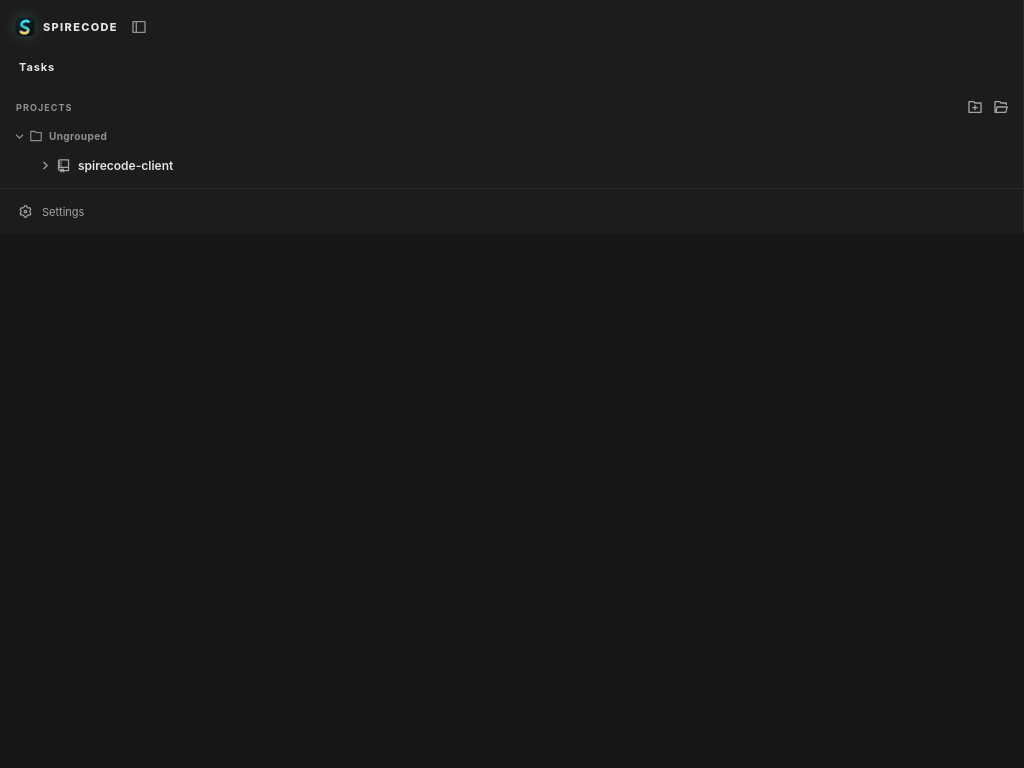
it: ProjectRail › renames a Git session from its context menu and updates an open tab
Click the button with aria-label "Expand spirecode-client" at (126, 165), box top-left (36, 150), bottom-right (963, 180)
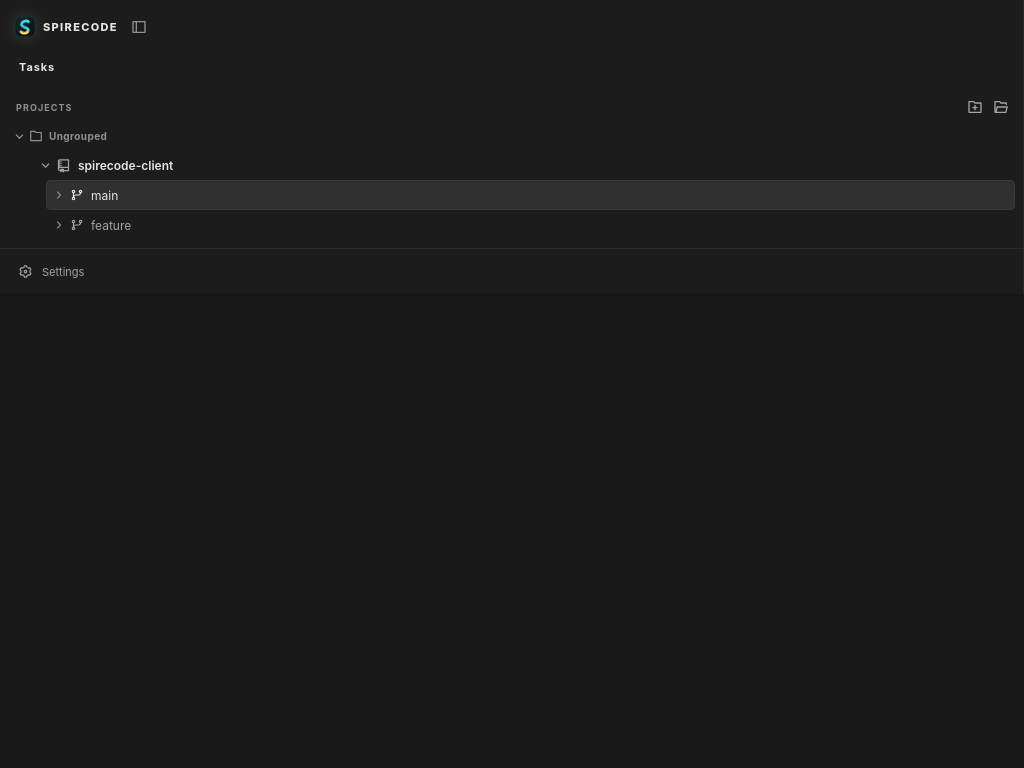
Click the button named "Expand Pi sessions for main" at (57, 195), box top-left (46, 182), bottom-right (68, 208)
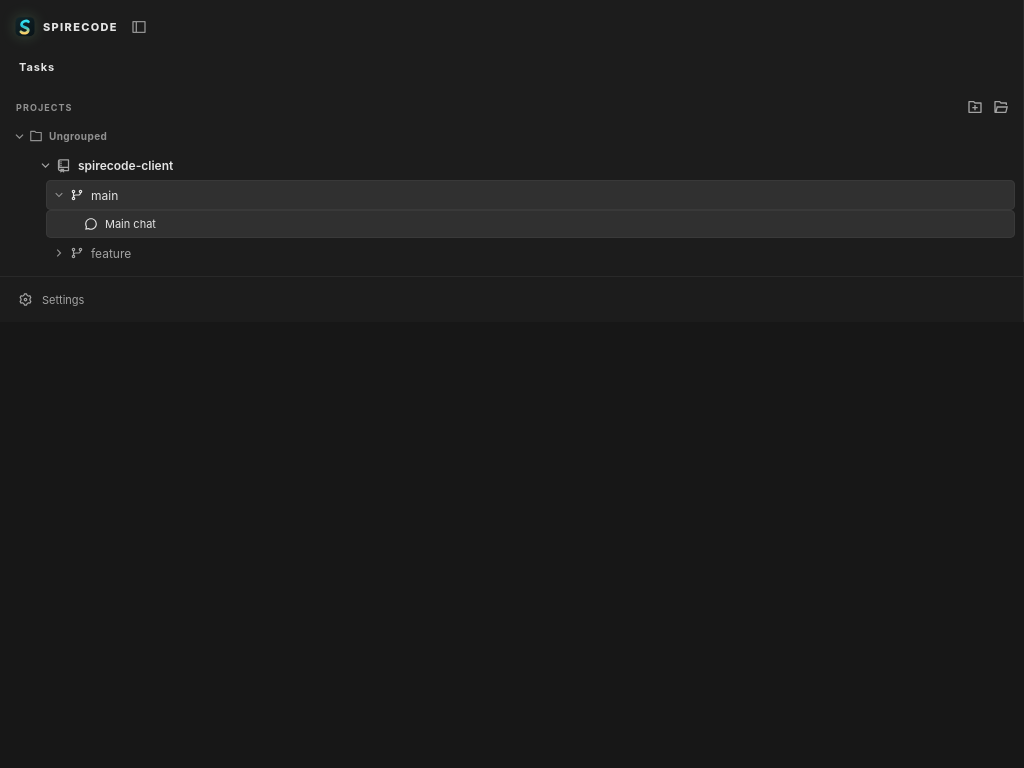
Right-click the button "Main chat" at (130, 224), box top-left (46, 210), bottom-right (1015, 238)
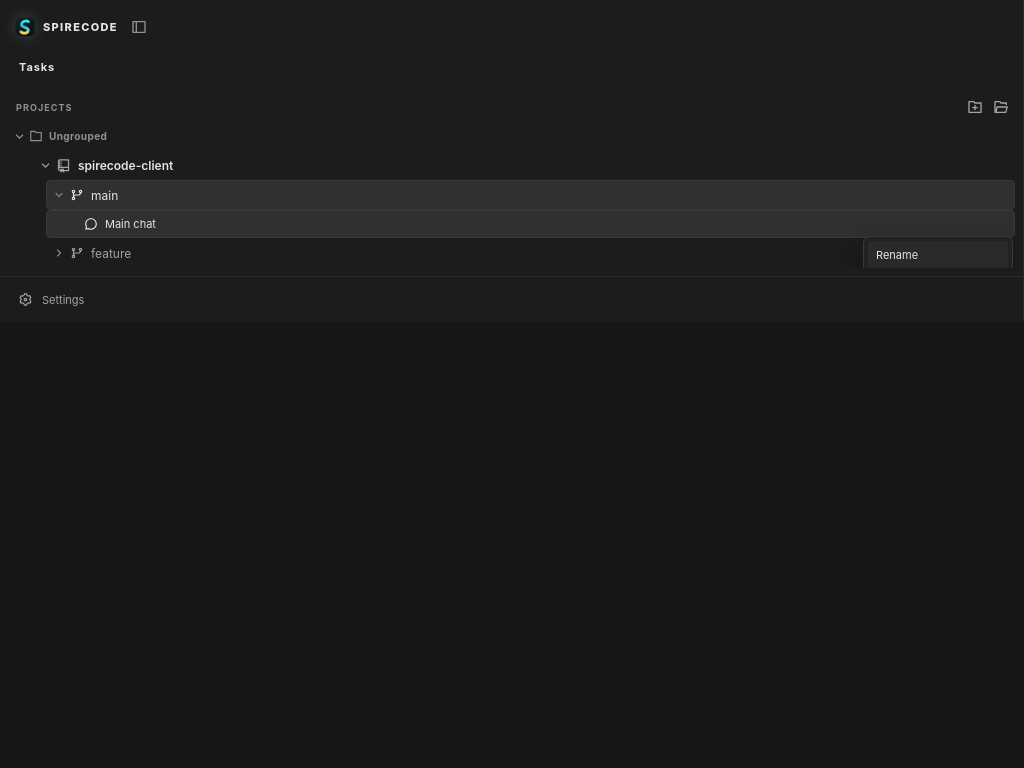
Click the menu item with aria-label "Rename Main chat" at (938, 254), box top-left (868, 241), bottom-right (1008, 268)
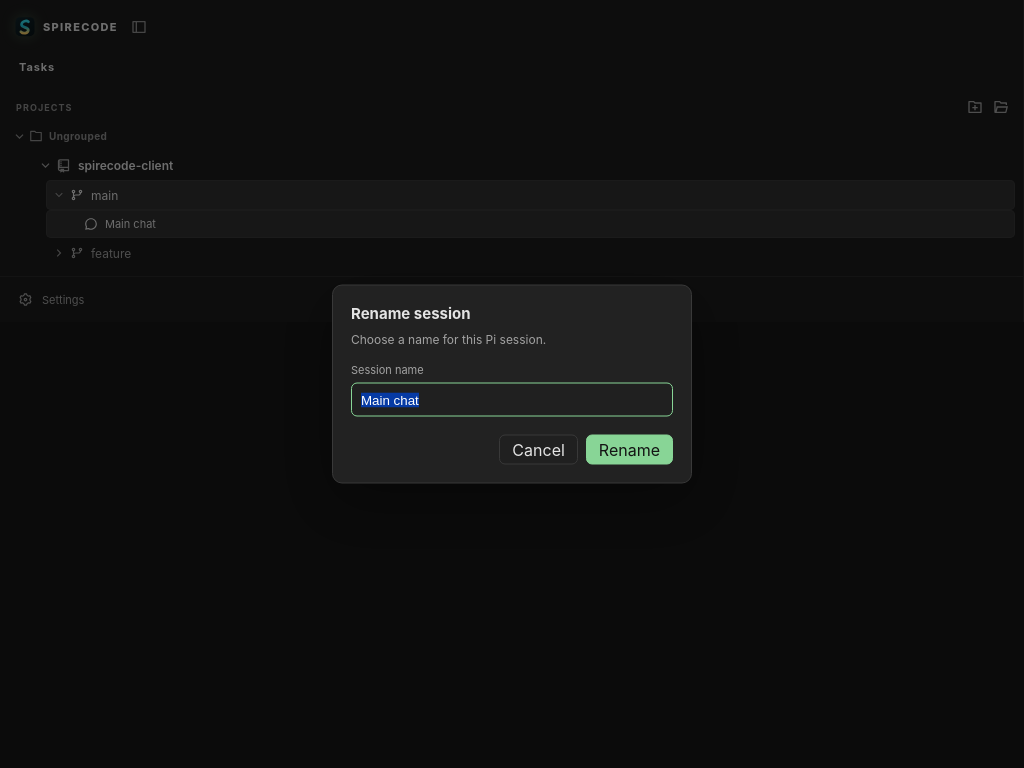
Replace the text in the field labelled "Session name" with "Renamed chat" at (512, 400), box top-left (351, 382), bottom-right (673, 416)
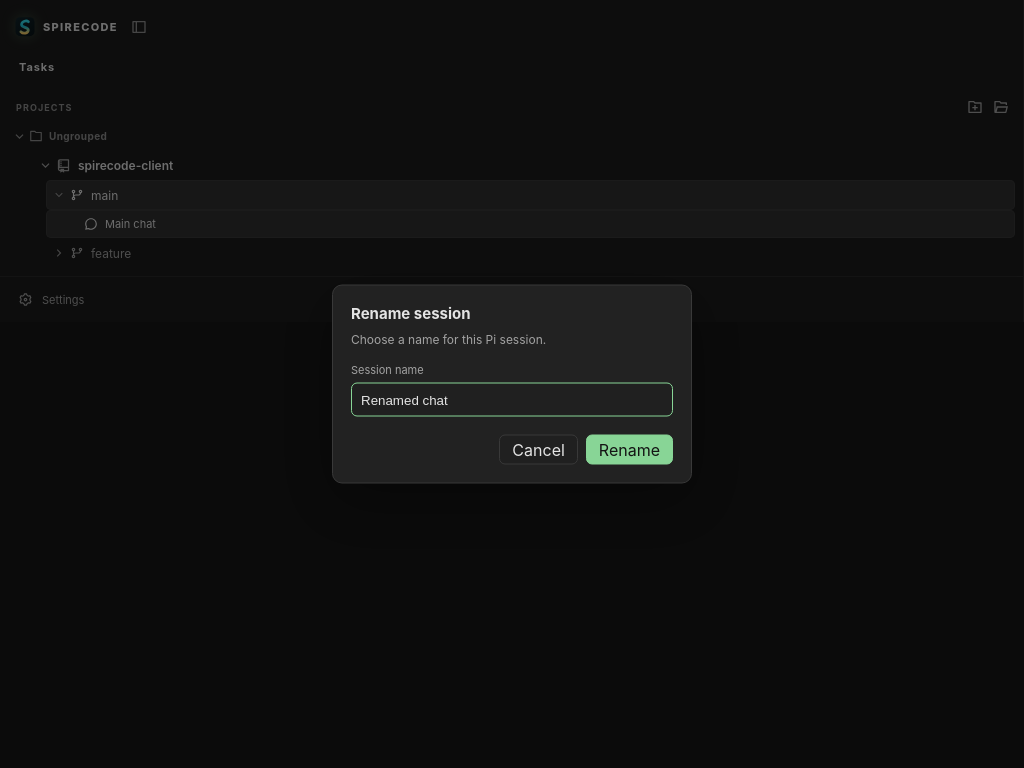
Click the button "Rename" at (629, 450), box top-left (586, 434), bottom-right (673, 464)
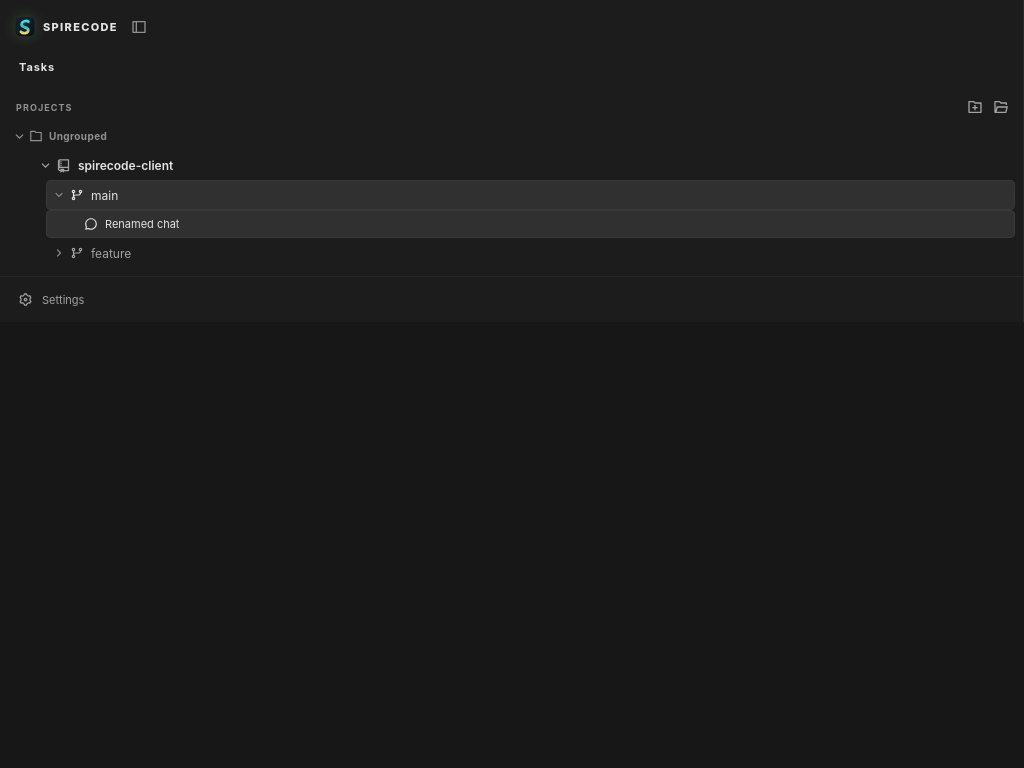
Result: the text "Renamed chat" is shown at top-left (105, 217), bottom-right (180, 231)
